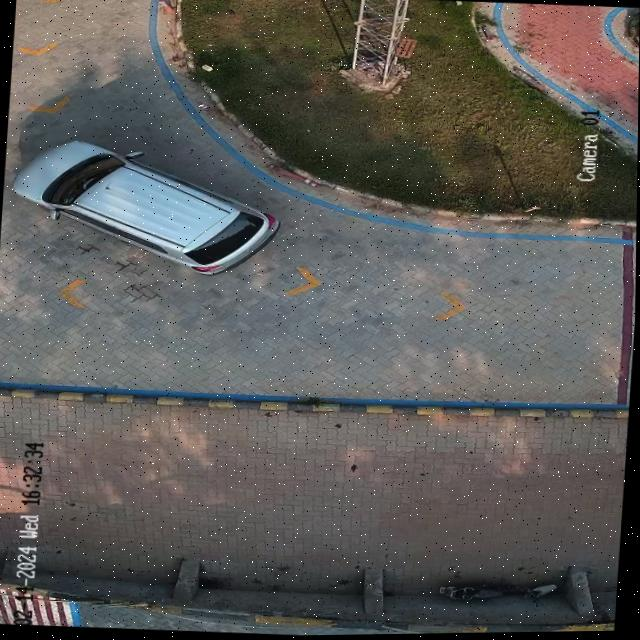car: (16, 144, 279, 273)
